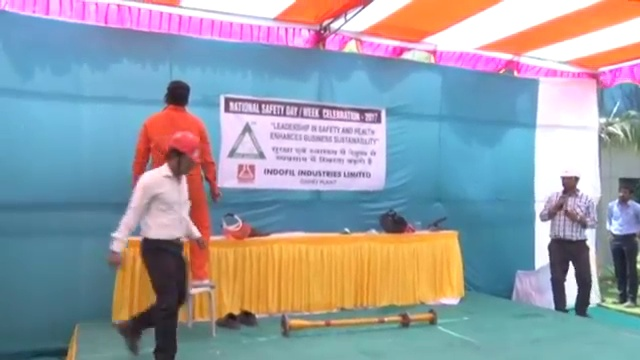helmet: (165, 130, 202, 166), (557, 165, 581, 179)
helmet_off: (162, 79, 190, 107), (617, 184, 635, 202)
helmet_on: (161, 129, 203, 184), (557, 164, 584, 196)
person: (101, 130, 202, 360), (132, 79, 222, 284), (536, 164, 599, 321), (606, 183, 639, 309)
